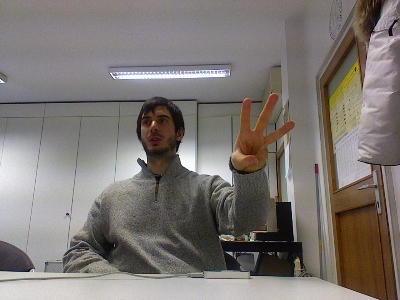三分: (228, 93, 294, 174)
